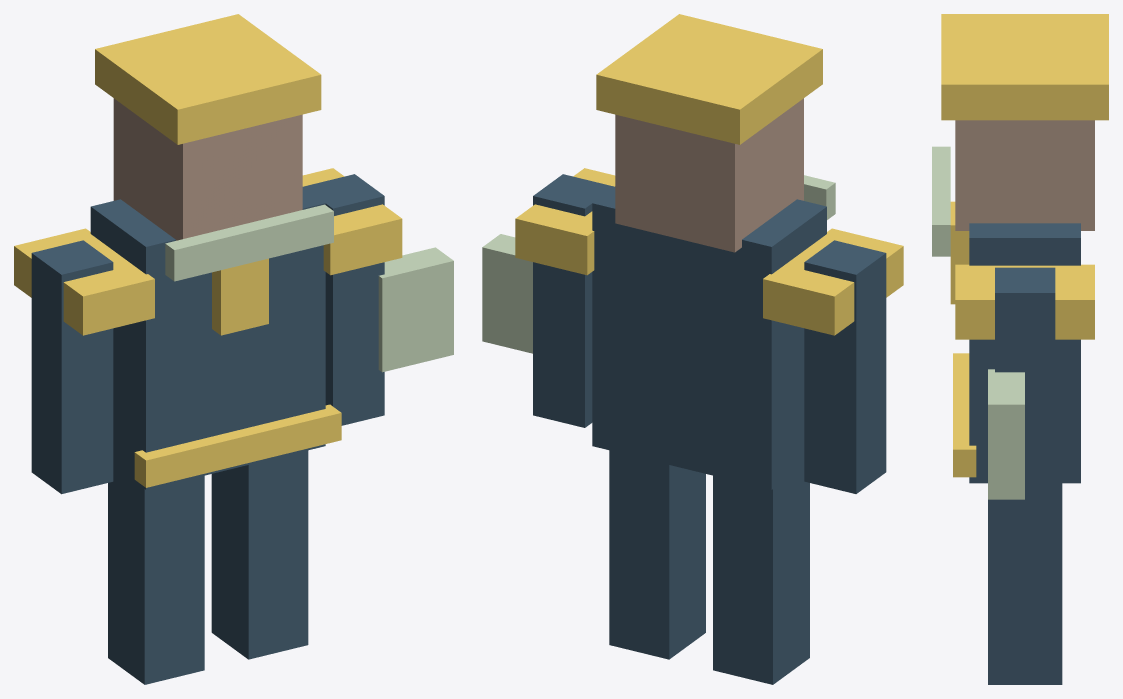
The model's file is 04_eryk_signalborn_marshal_under_bulk.glb.
3 views of the same model, side by side, from view 1: azimuth 30°, elevation 25°; view 2: azimuth 150°, elevation 25°; view 3: azimuth 270°, elevation 25° (orthographic).
Visible parts, largest first — view 1: Eryk Signalborn, Marshal under Bulk; view 2: Eryk Signalborn, Marshal under Bulk; view 3: Eryk Signalborn, Marshal under Bulk.
Boxes of the visible parts, bbox=[...] form: Eryk Signalborn, Marshal under Bulk: bbox=[14, 14, 453, 684]; Eryk Signalborn, Marshal under Bulk: bbox=[482, 14, 903, 684]; Eryk Signalborn, Marshal under Bulk: bbox=[932, 14, 1108, 684].
Bounding box in the file's own units: 0.9842 × 1.43 × 0.3836.
